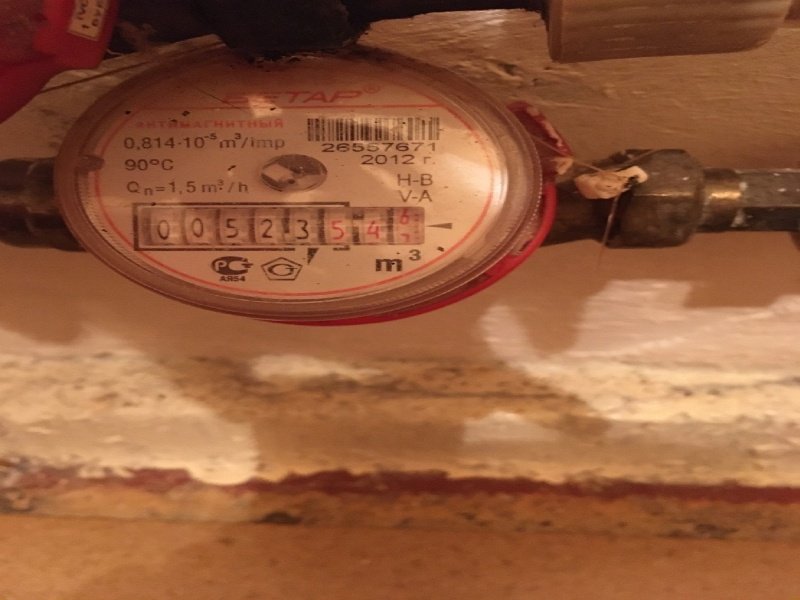meter: (138, 200, 418, 249)
